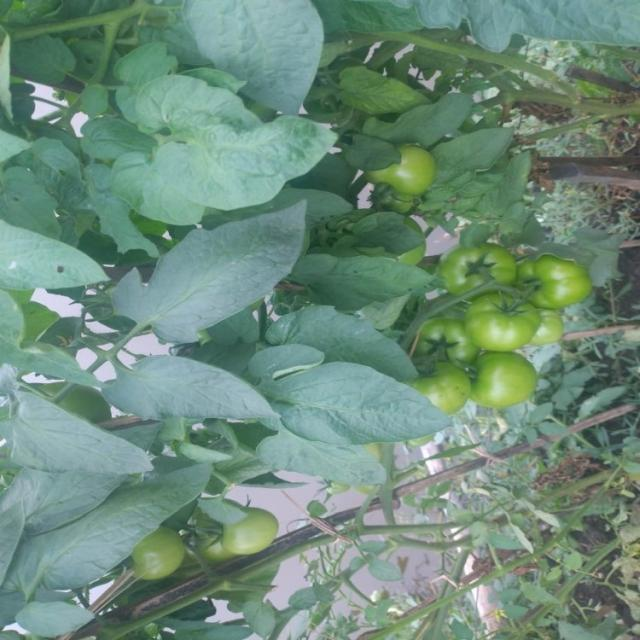tomato: (465, 288, 537, 359), (515, 249, 593, 312), (465, 345, 541, 409), (414, 355, 480, 421), (124, 522, 188, 590), (440, 239, 517, 293), (30, 372, 112, 420), (371, 142, 433, 205), (180, 502, 235, 564), (416, 317, 478, 371), (222, 500, 285, 552)
